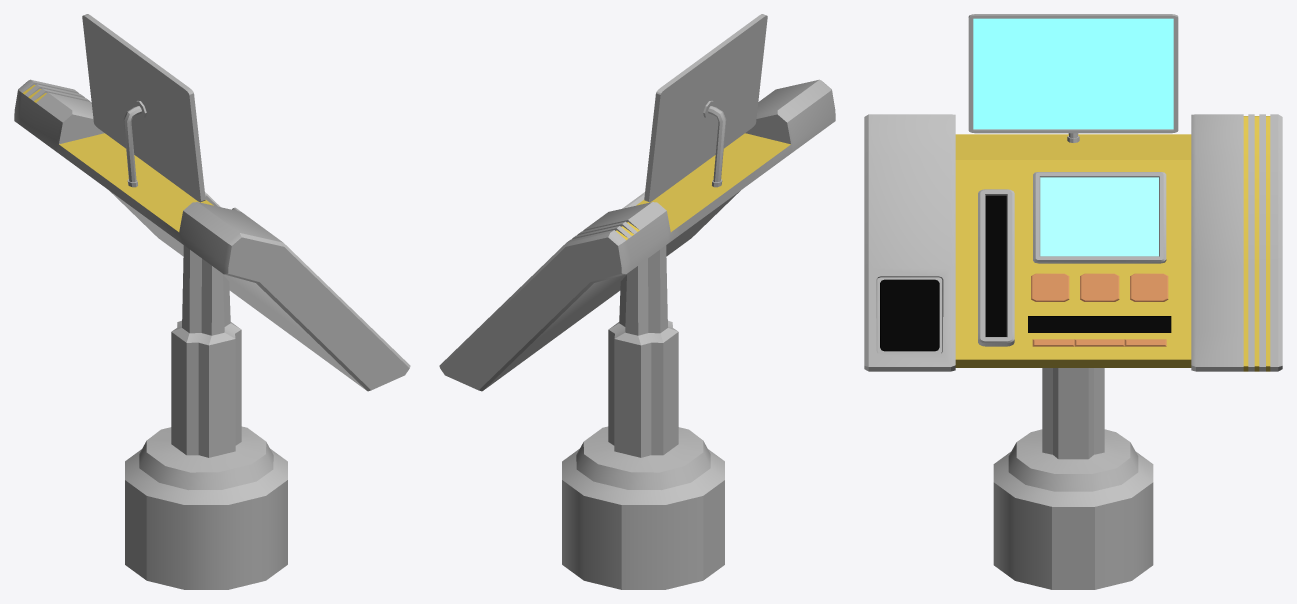
Rendered from Room_PowerChamber_ControlPanel.fbx.
3 views of the same model, side by side, from view 1: azimuth 30°, elevation 25°; view 2: azimuth 150°, elevation 25°; view 3: azimuth 270°, elevation 25° (orthographic). The views are drawn at different scales.
Parts seen in each view (by area): view 1: control panel; view 2: control panel; view 3: control panel.
Part boxes in pixels (<box>): control panel: <box>14,14,410,589</box>; control panel: <box>439,14,835,589</box>; control panel: <box>864,14,1282,589</box>.
Bounding box in the file's own units: 56.35 × 150 × 112.
